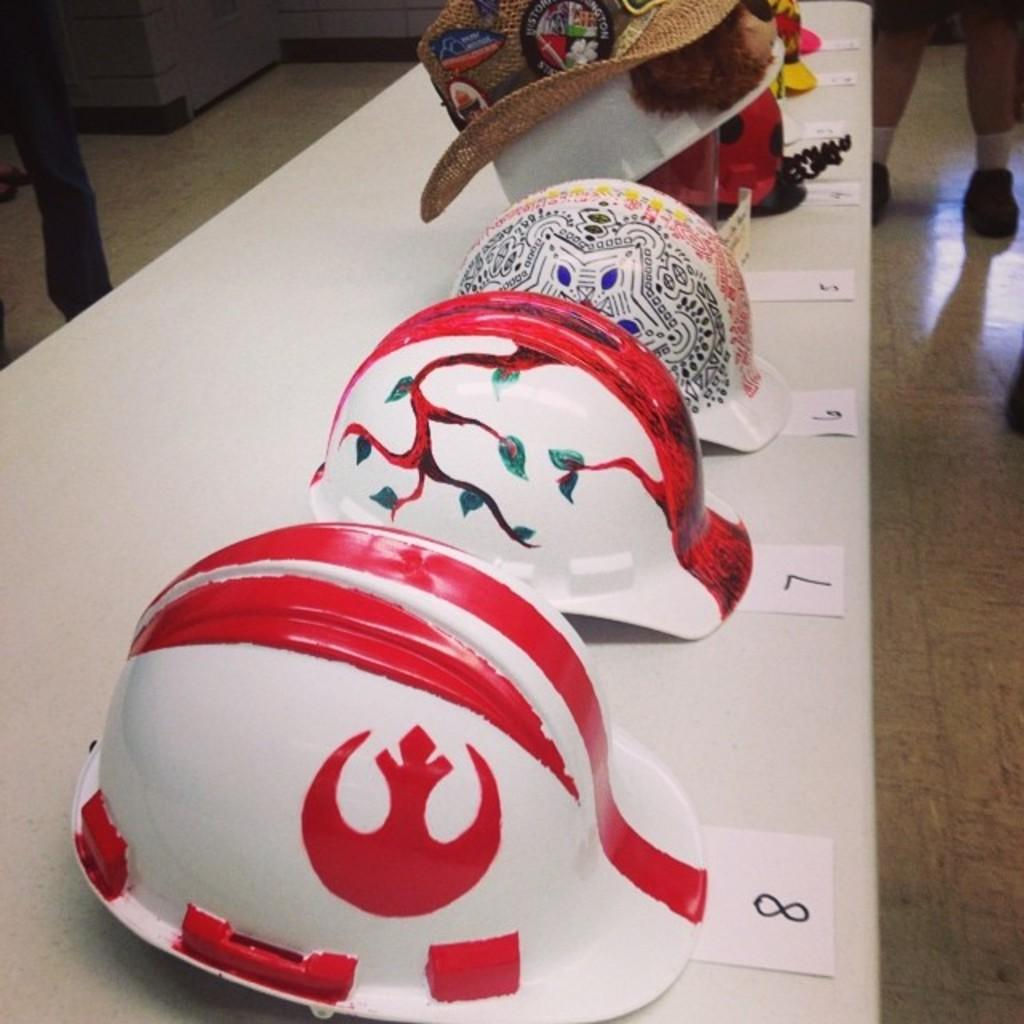Hat: (414, 0, 745, 217)
